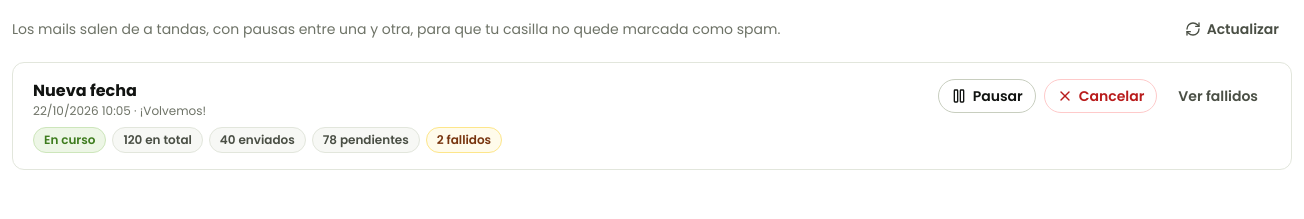
it: PanelEnvios › el detalle muestra quiénes fallaron y por qué
Click the button "Ver fallidos" at (1218,96), box top-left (1165, 79), bottom-right (1271, 113)
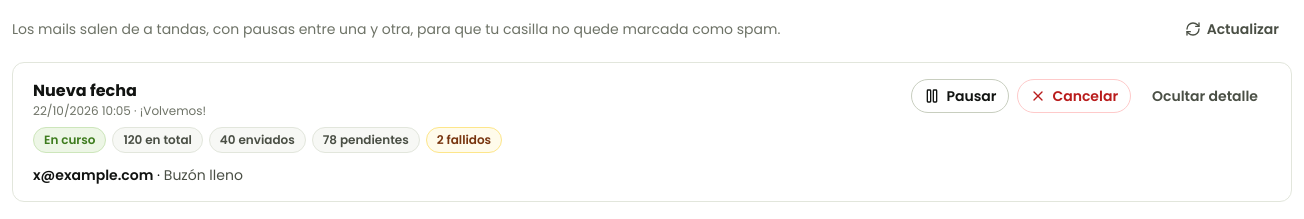
Expected: the text "x@example.com" is shown, top-left (33, 165), bottom-right (153, 185)
Expected: the text "Buzón lleno" is shown, top-left (164, 165), bottom-right (243, 185)
